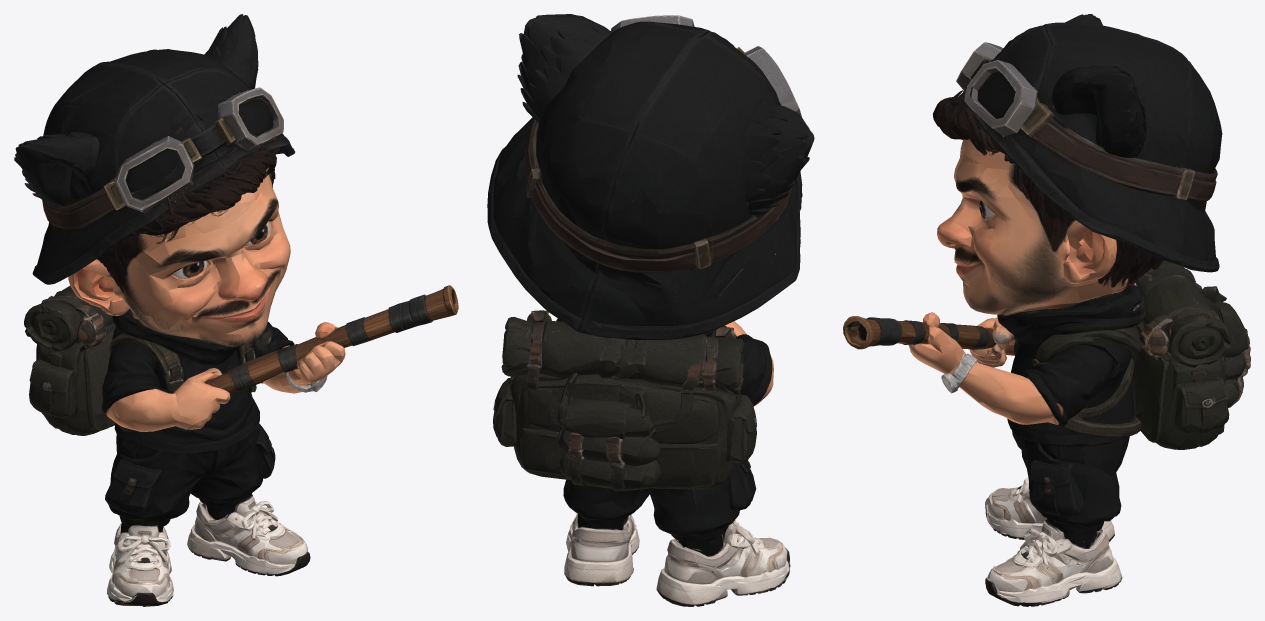
Rendered from character.glb.
The picture shows the model from 3 angles, left to right: view 1: azimuth 30°, elevation 25°; view 2: azimuth 150°, elevation 25°; view 3: azimuth 270°, elevation 25°; orthographic projection. The views are drawn at different scales.
Size of the model in its own units: 1.29 by 1.9 by 1.32.
1 material, 1 textured.
